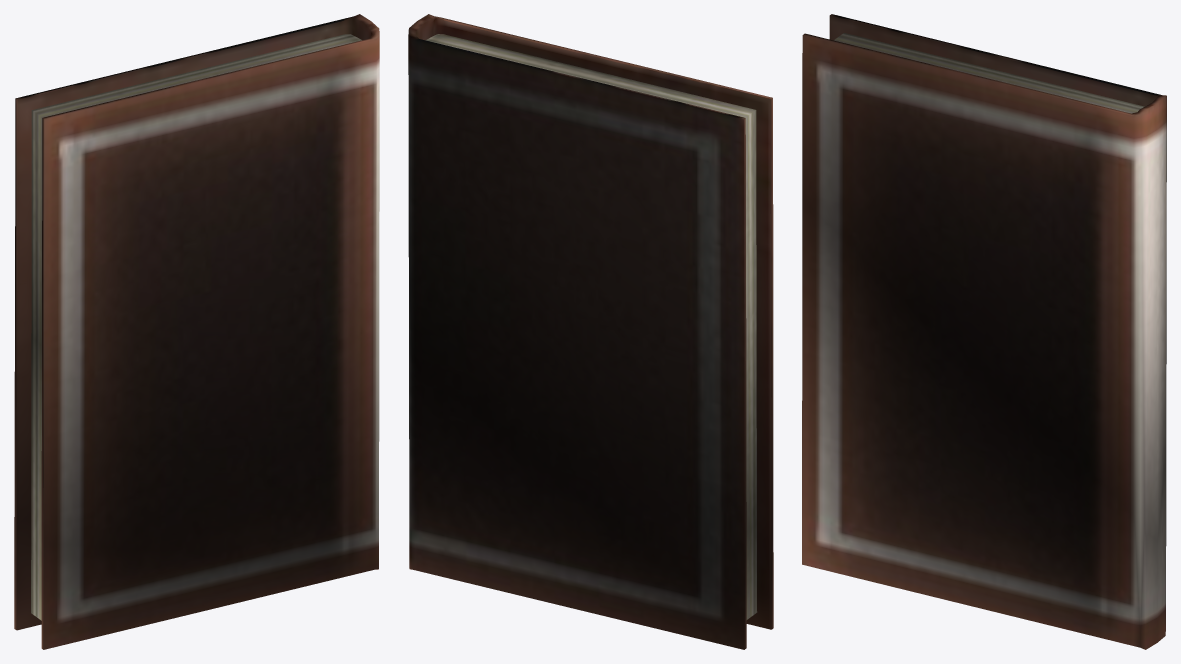
The model's file is frl_apartment_book_03.glb.
3 views of the same model, side by side, from view 1: azimuth 30°, elevation 25°; view 2: azimuth 150°, elevation 25°; view 3: azimuth 330°, elevation 25° (orthographic).
Visible parts, largest first — view 1: frl_apartment_book_03; view 2: frl_apartment_book_03; view 3: frl_apartment_book_03.
Boxes of the visible parts, x1,y1,x2,y2 form: frl_apartment_book_03: [14, 14, 379, 649]; frl_apartment_book_03: [408, 14, 773, 649]; frl_apartment_book_03: [802, 14, 1166, 649].
Size of the model in its own units: 0.1092 by 0.1651 by 0.0164.
1 material, 1 textured.
